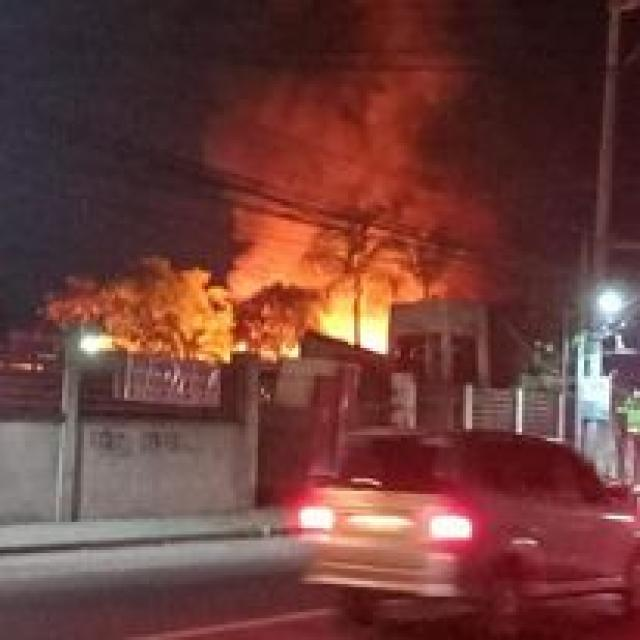Fire: (233, 254, 413, 352)
Smoke: (155, 0, 490, 283)
